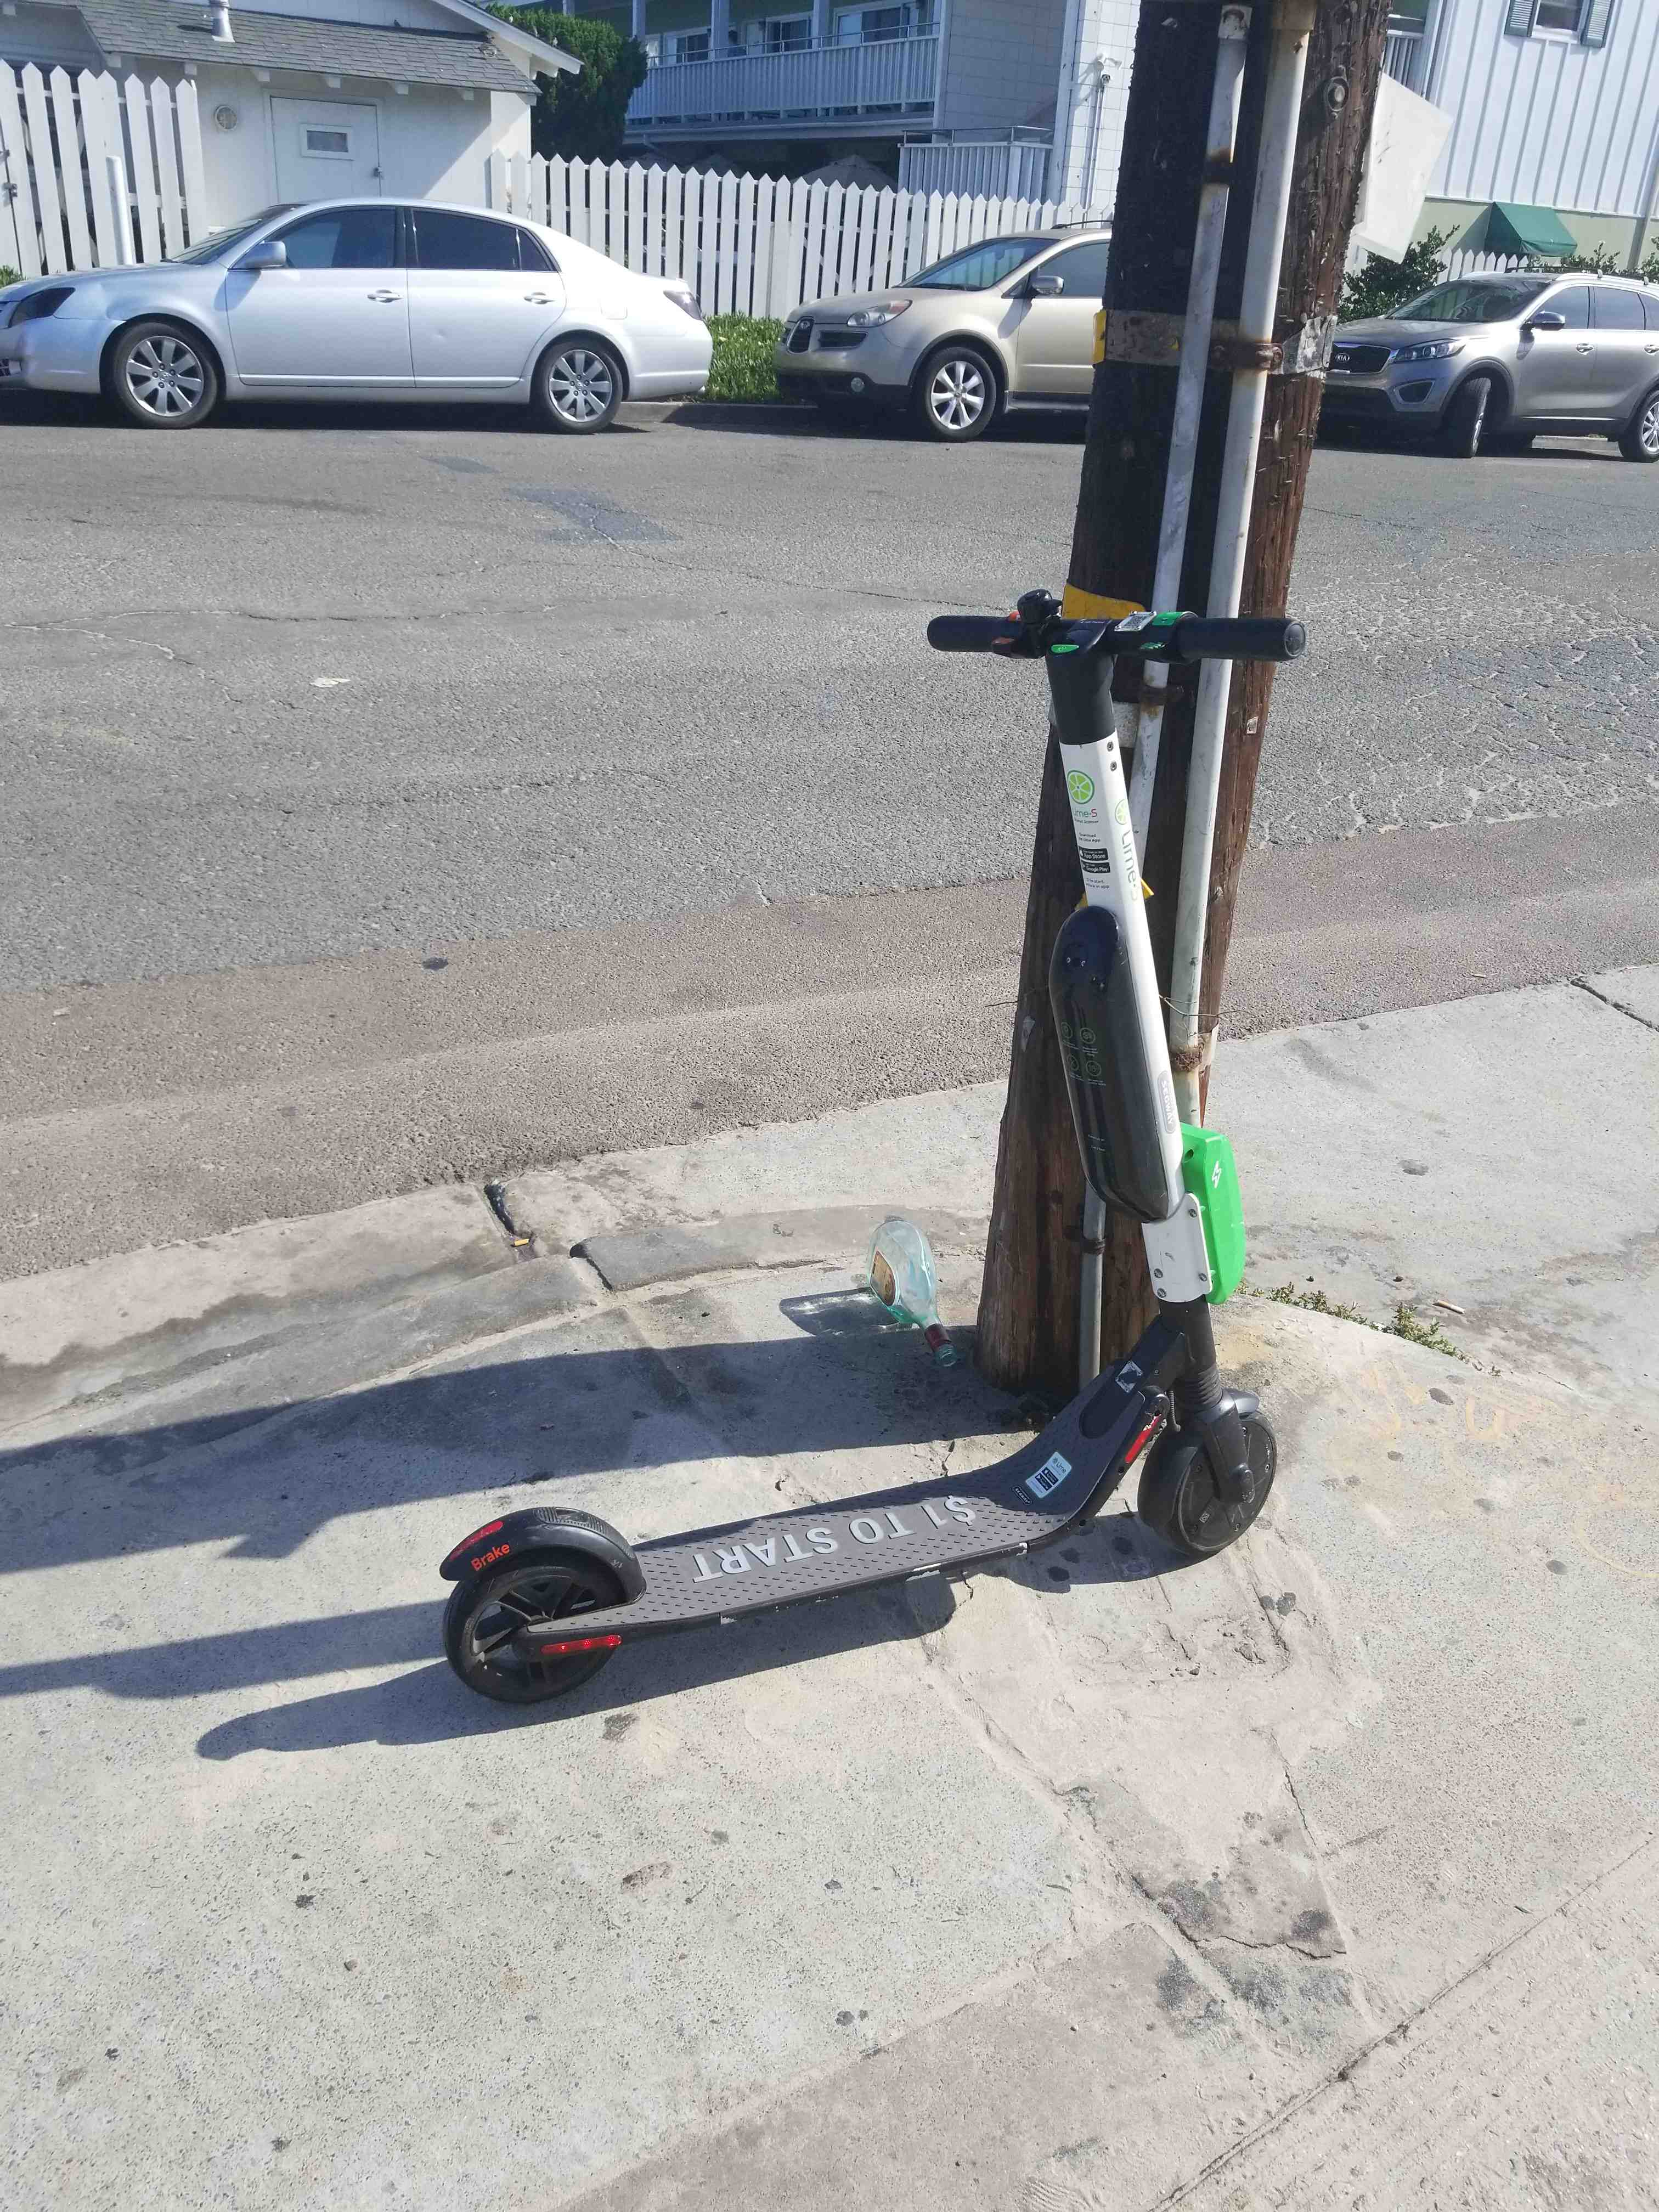scooter: (429, 549, 1345, 1712)
